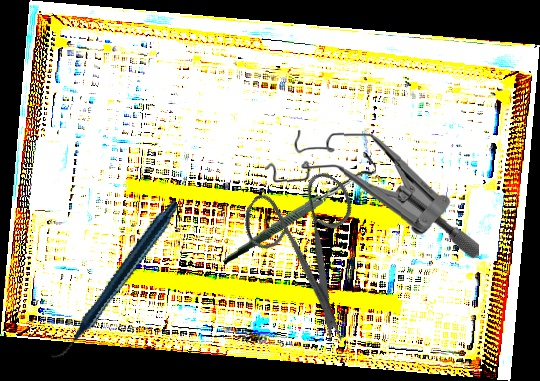Handpiece: (18, 199, 210, 360)
Hook Surgical: (214, 150, 384, 265)
Iris Scissors: (211, 147, 417, 348)
Speculum: (263, 127, 482, 259)
